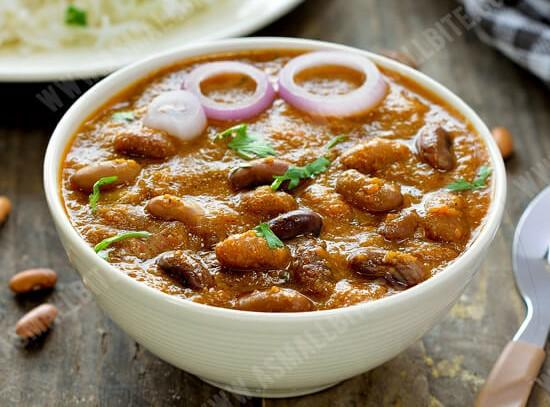RajmaCurry: (62, 54, 485, 308)
